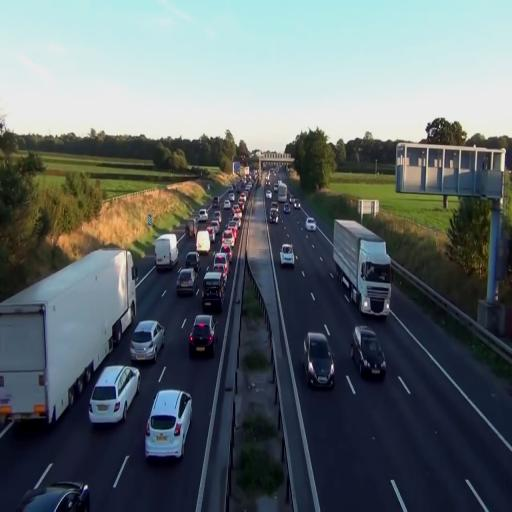vehicle: (0, 248, 138, 433), (333, 218, 392, 316), (145, 388, 193, 460), (89, 364, 140, 425), (18, 476, 90, 511), (304, 330, 335, 389), (352, 326, 386, 379), (130, 319, 165, 362), (188, 314, 216, 358), (202, 270, 224, 314), (154, 232, 178, 272), (154, 233, 178, 272), (176, 268, 198, 298), (213, 250, 229, 282), (280, 242, 295, 266), (270, 204, 280, 224), (305, 218, 317, 231)
